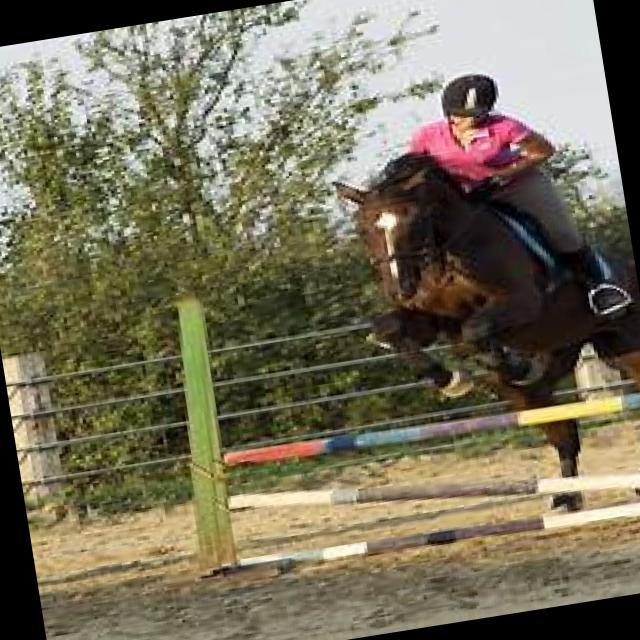animal: (325, 119, 640, 541)
